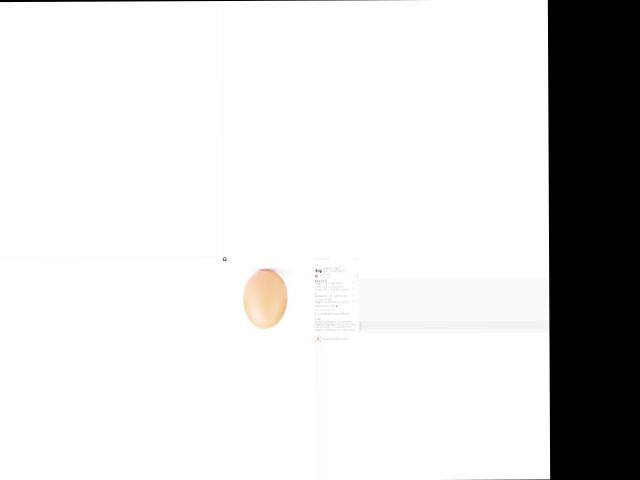egg: (243, 269, 288, 328)
